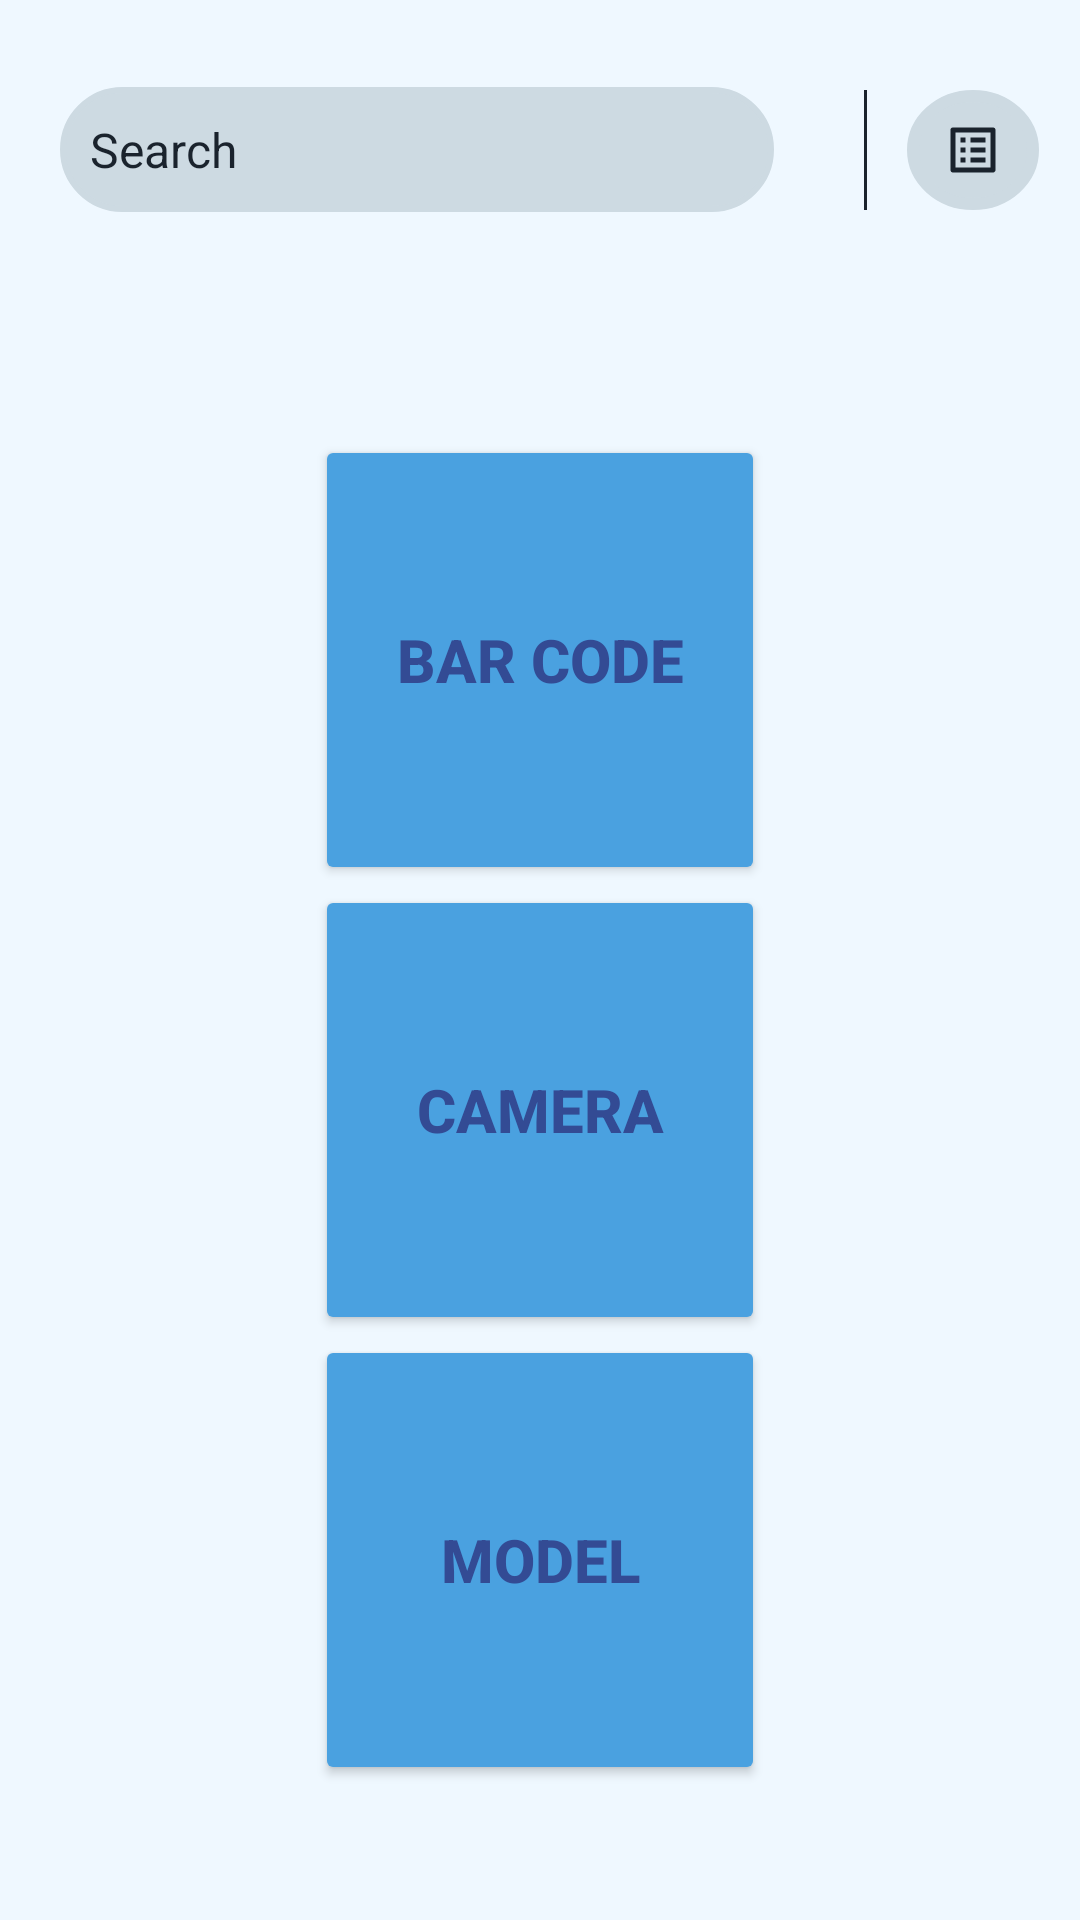

Locate icon controls on the screen. Image size 1080 × 1920, boxes as bbox=(x1, y1, x2, y2).
form: bbox=(907, 90, 1039, 210)
